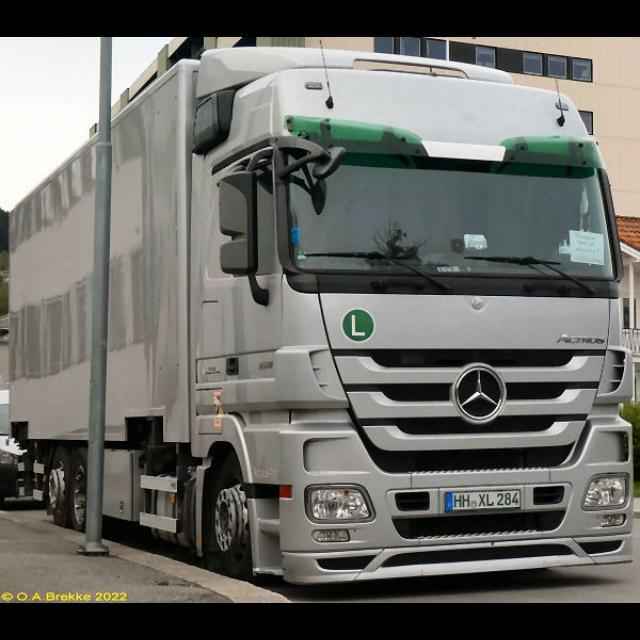license-plates: (446, 492, 521, 512)
